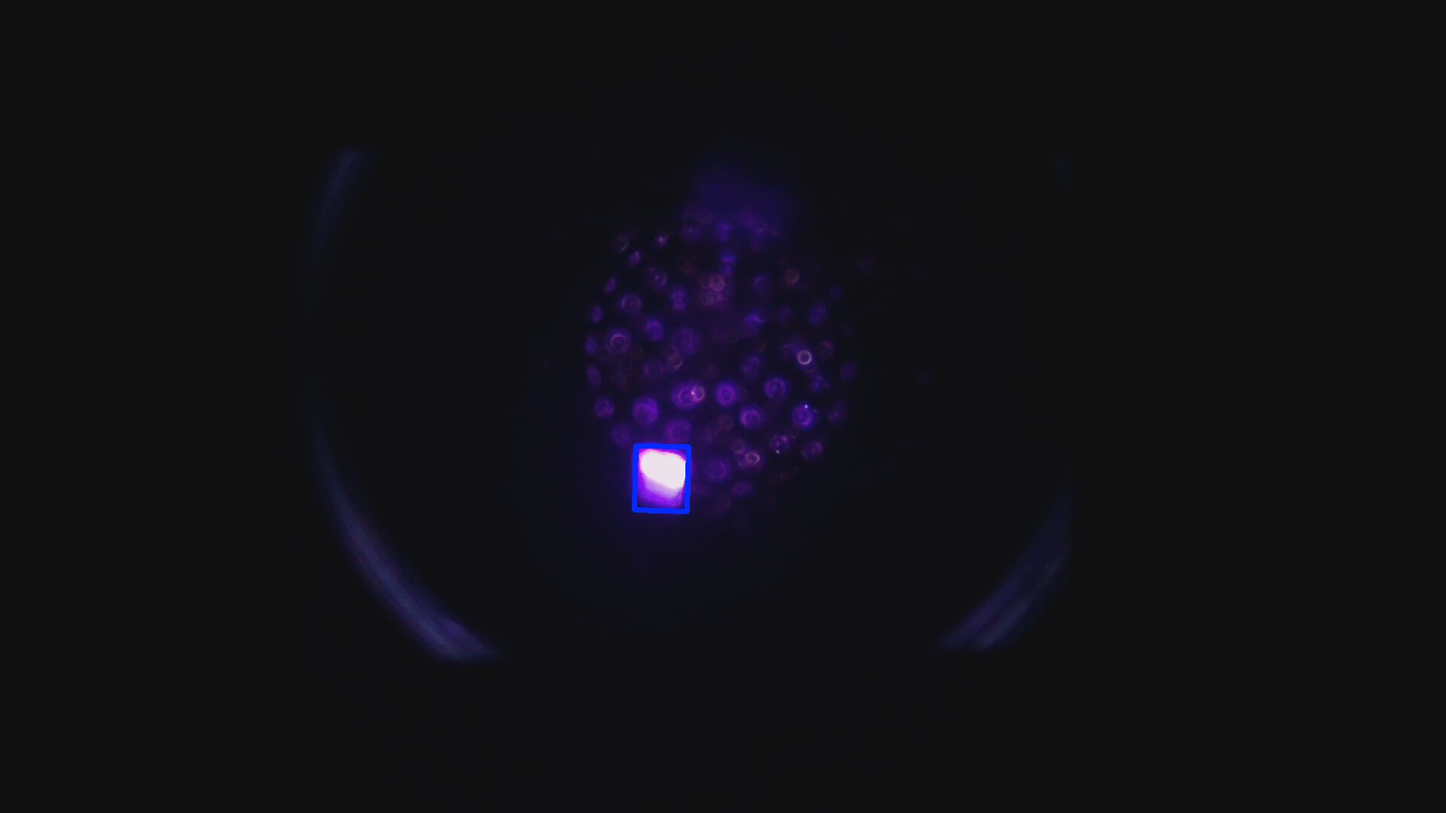plastic: (635, 446, 689, 511)
